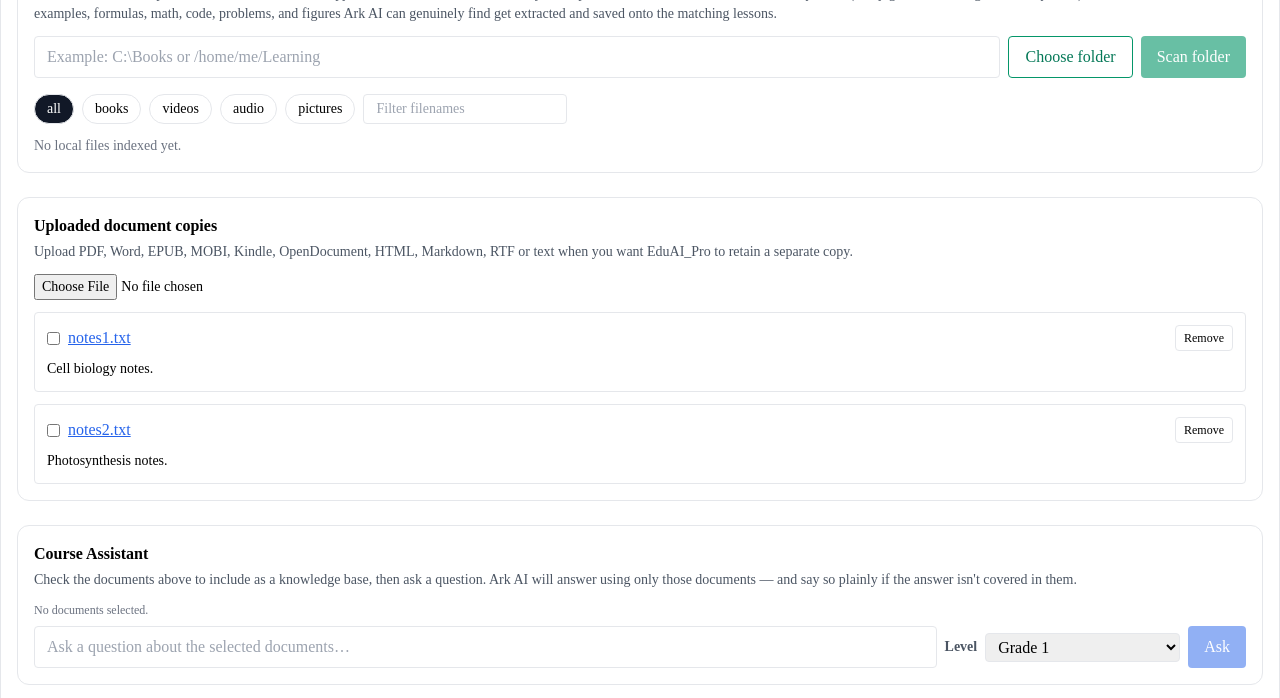
Test: ResourceTab Course Assistant › selects documents via checkboxes and asks a grounded question
(page scrolled)
Expected: the link "notes1.txt" is shown, x1=68 y1=326 x2=131 y2=350
Expected: the text "No documents selected." is shown, x1=34 y1=603 x2=148 y2=617
Click the checkbox named "Include notes1.txt in Course Assistant": (54,338) x1=47 y1=332 x2=60 y2=344
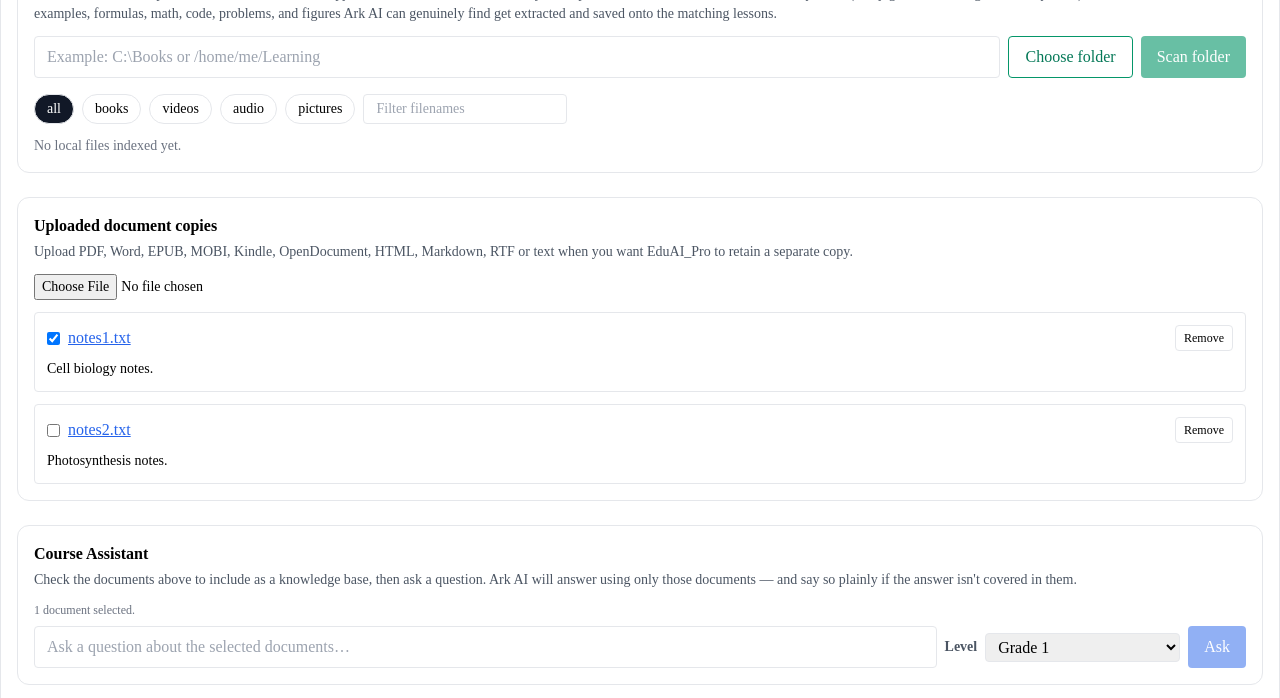
Click the checkbox named "Include notes2.txt in Course Assistant": (54,430) x1=47 y1=424 x2=60 y2=436
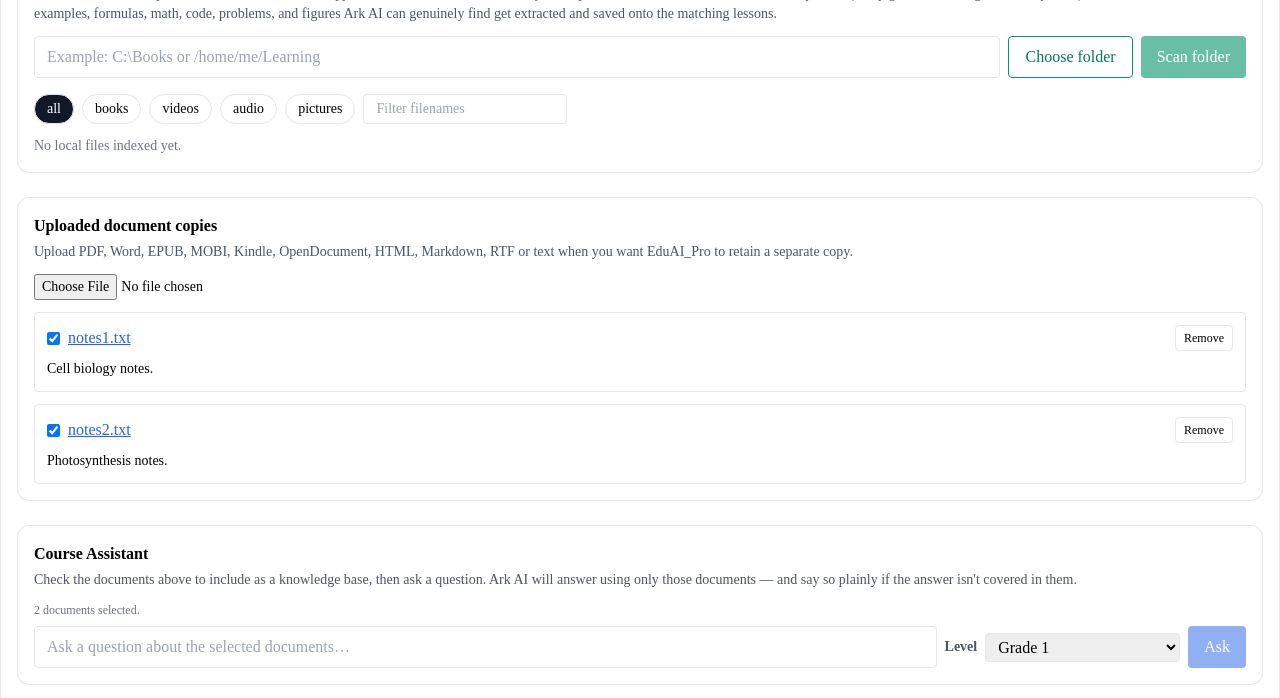
Expected: the text "2 documents selected." is shown, x1=34 y1=603 x2=140 y2=617
In the field with placeholder "Ask a question about the selected documents…": (485,647) x1=34 y1=626 x2=937 y2=668, type "What is the powerhouse of the cell?"
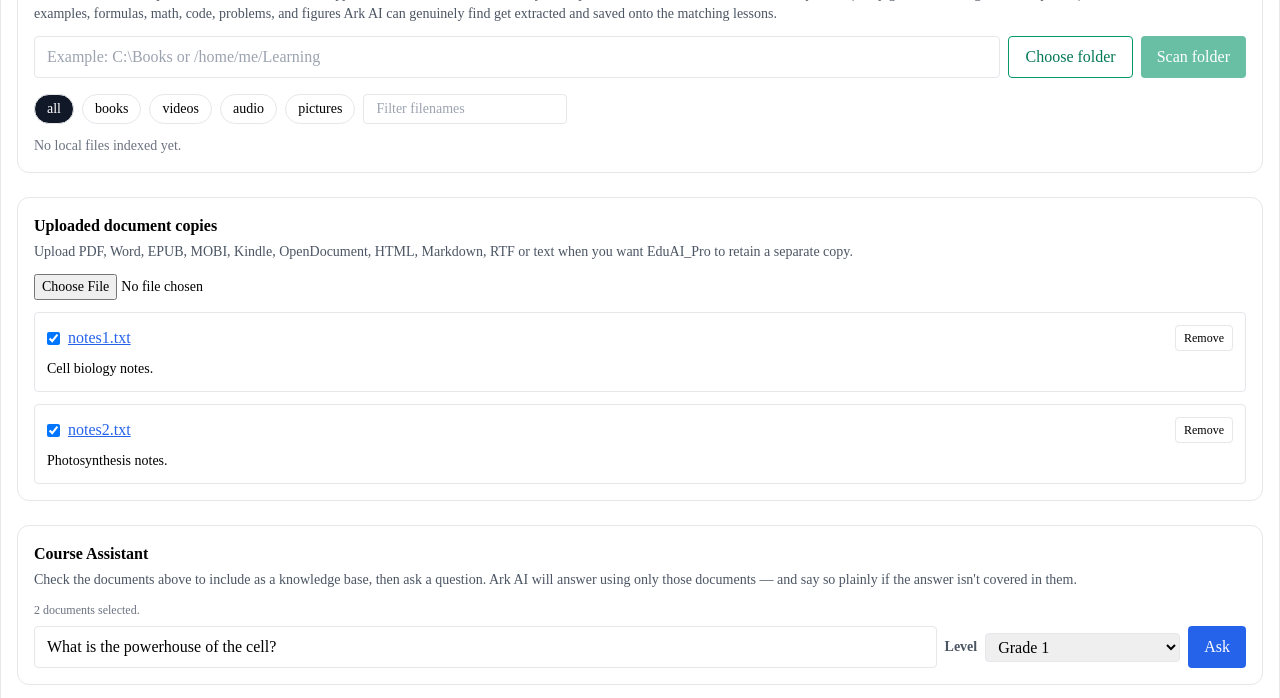
Click the button "Ask": (1217,647) x1=1188 y1=626 x2=1246 y2=668
(page scrolled)
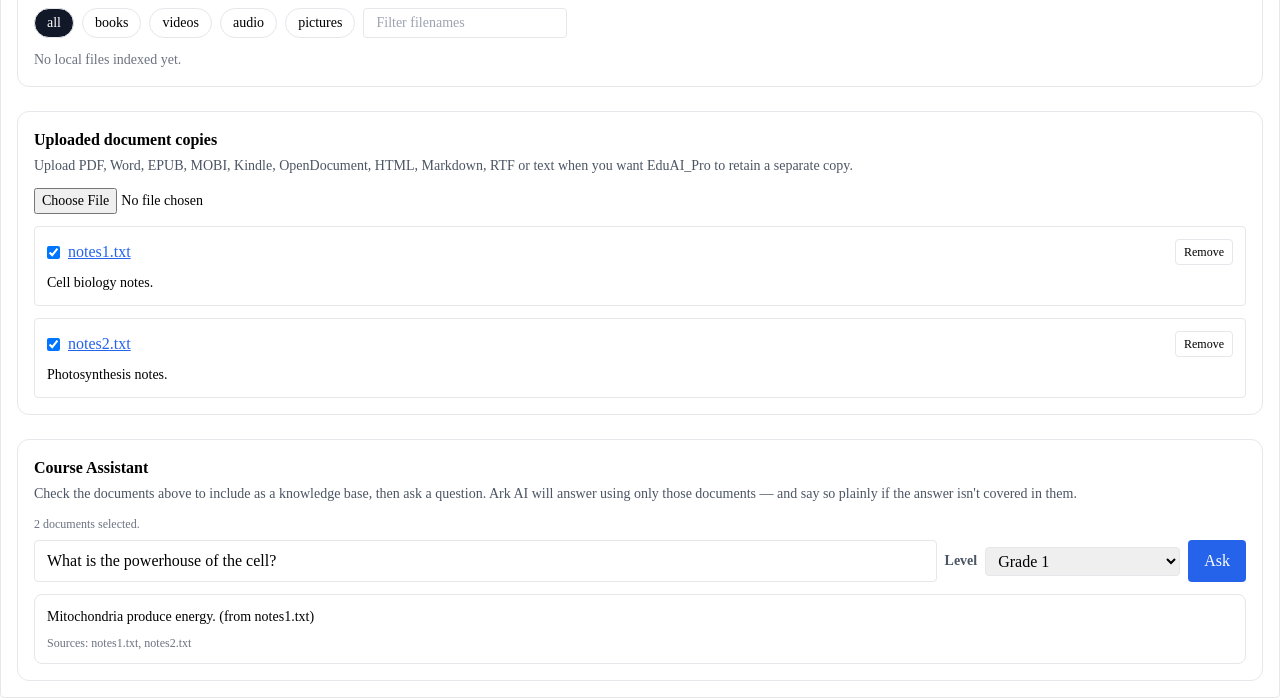
Expected: the text "Mitochondria produce energy. (from notes1.txt)" is shown, x1=47 y1=609 x2=314 y2=624
Expected: the text "Sources: notes1.txt, notes2.txt" is shown, x1=47 y1=636 x2=191 y2=650
